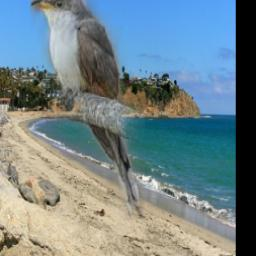Cuckoo: (29, 0, 144, 220)
